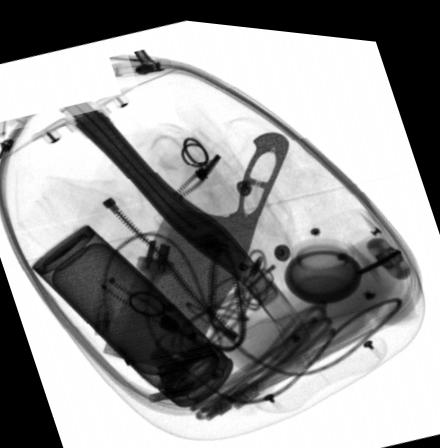Knife: (101, 125, 289, 366)
